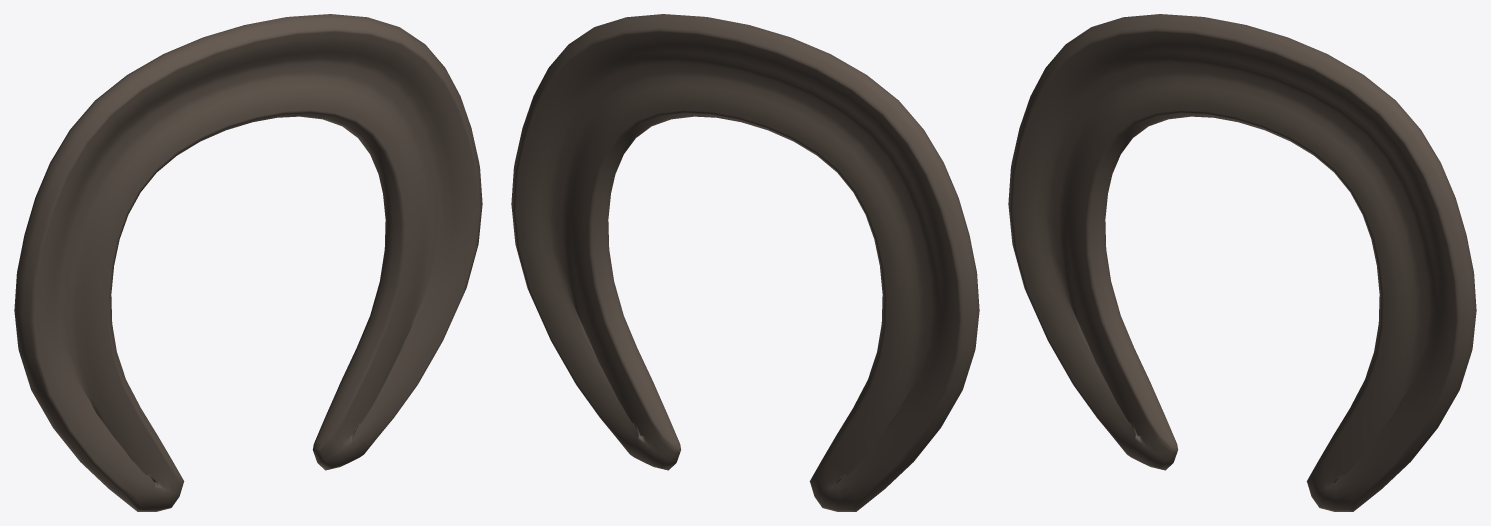
File: Horseshoe.fbx
3 views of the same model, side by side, from view 1: azimuth 30°, elevation 25°; view 2: azimuth 150°, elevation 25°; view 3: azimuth 330°, elevation 25° (orthographic).
Visible parts, largest first — view 1: Horseshoe; view 2: Horseshoe; view 3: Horseshoe.
Part boxes in pixels (bbox=[...]): Horseshoe: bbox=[14, 14, 482, 511]; Horseshoe: bbox=[511, 14, 979, 511]; Horseshoe: bbox=[1008, 14, 1476, 511].
Bounding box in the file's own units: 0.0323 × 0.0308 × 0.00191.
1 material, 1 textured.
